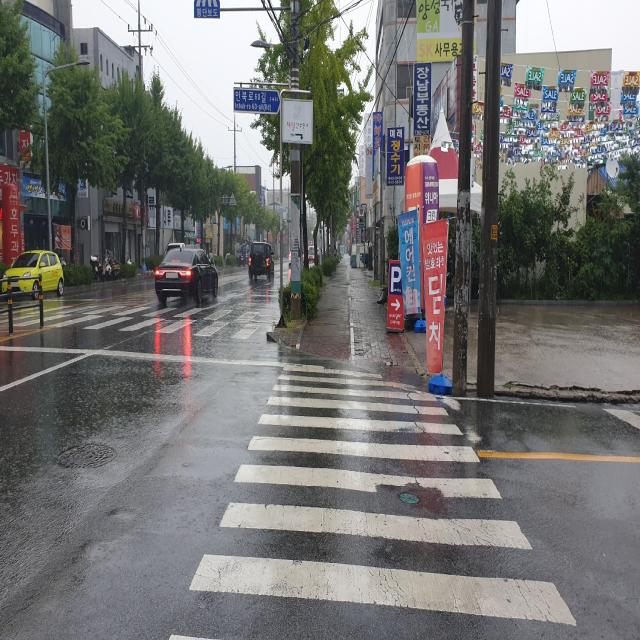횡단보도: (165, 356, 581, 640), (0, 301, 271, 335)
